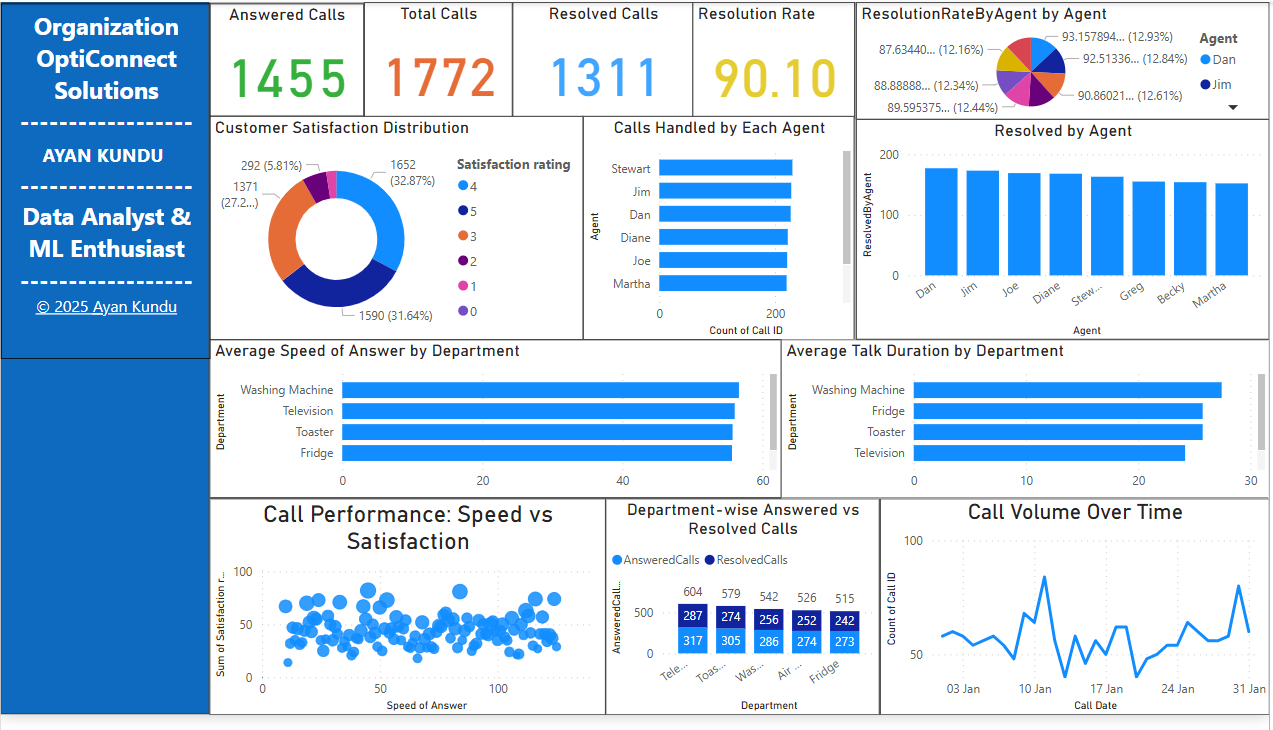

The dashboard page shown, as its layout file describes it:
{"tool":"powerbi","page":{"name":"Page 1","canvas":[1280,720],"ordinal":0},"visuals":[{"type":"shape","box":[0,0,210,718.6],"z":0},{"type":"card","title":"Total Calls","fields":{"Values":["Sheet1.Call ID"]},"box":[365.7,0,150,115.7],"z":1000},{"type":"card","title":"Answered Calls","fields":{"Values":["Sheet1.AnsweredCalls"]},"box":[210,1.4,155.7,114.3],"z":2000},{"type":"card","title":"Resolved Calls","fields":{"Values":["Sheet1.ResolvedCalls"]},"box":[515.7,0,182.9,115.7],"z":3000},{"type":"card","title":"Resolution Rate","fields":{"Values":["Sheet1.ResolutionRate"]},"box":[698.6,0,164.3,117.1],"z":4000},{"type":"lineChart","title":"Call Volume Over Time","fields":{"Y":["Sheet1.Call ID"],"Category":["Sheet1.Call Date"]},"box":[886.7,501.7,393.3,218.3],"z":5000},{"type":"scatterChart","title":"Call Performance: Speed vs Satisfaction","fields":{"X":["Sheet1.Speed of Answer"],"Y":["Sheet1.Satisfaction rating"],"Size":["Sheet1.AvgTalkDurationSeconds"]},"box":[210,501.4,400,218.6],"z":6000},{"type":"columnChart","title":"Department-wise Answered vs Resolved Calls","fields":{"Category":["Sheet1.Department"],"Y":["Sheet1.AnsweredCalls","Sheet1.ResolvedCalls"]},"box":[610,501.7,276.7,218.3],"z":7000},{"type":"clusteredBarChart","title":"Calls Handled by Each Agent","fields":{"Category":["Sheet1.Agent"],"Y":["Sheet1.Call ID"]},"box":[587.1,115.7,274.3,225.7],"z":8000},{"type":"donutChart","title":"Customer Satisfaction Distribution","fields":{"Category":["Sheet1.Satisfaction rating"],"Y":["Sheet1.Satisfaction rating"]},"box":[210,115.7,377.1,225.7],"z":9000},{"type":"barChart","title":"Average Talk Duration by Department","fields":{"Category":["Sheet1.Department"],"Y":["Sheet1.AvgTalkDurationSeconds"]},"box":[787.1,341.4,492.9,160],"z":10000},{"type":"clusteredColumnChart","title":"Resolved by Agent","fields":{"Category":["Sheet1.Agent"],"Y":["Sheet1.ResolvedByAgent"]},"box":[862.9,118.6,417.1,222.9],"z":11000},{"type":"clusteredBarChart","title":"Average Speed of Answer by Department","fields":{"Category":["Sheet1.Department"],"Y":["Sheet1.AvgSpeedOfAnswer"]},"box":[210,341.4,577.1,160],"z":12000},{"type":"pieChart","fields":{"Category":["Sheet1.Agent"],"Y":["Sheet1.ResolutionRateByAgent"]},"box":[862.9,0,417.1,118.6],"z":13000},{"type":"textbox","box":[0,1.4,211.4,358.6],"z":20000}]}

Visuals, with their boxes in screenshot pixels (x1, y1, x2, y2), scaled from the page's 1280x720 canvas onto the 1273x730 screenshot:
shape: {"left": 0, "top": 0, "right": 209, "bottom": 729}
"Total Calls" card: {"left": 364, "top": 0, "right": 513, "bottom": 117}
"Answered Calls" card: {"left": 209, "top": 1, "right": 364, "bottom": 117}
"Resolved Calls" card: {"left": 513, "top": 0, "right": 695, "bottom": 117}
"Resolution Rate" card: {"left": 695, "top": 0, "right": 858, "bottom": 119}
"Call Volume Over Time" lineChart: {"left": 882, "top": 509, "right": 1272, "bottom": 729}
"Call Performance: Speed vs Satisfaction" scatterChart: {"left": 209, "top": 508, "right": 607, "bottom": 729}
"Department-wise Answered vs Resolved Calls" columnChart: {"left": 607, "top": 509, "right": 882, "bottom": 729}
"Calls Handled by Each Agent" clusteredBarChart: {"left": 584, "top": 117, "right": 857, "bottom": 346}
"Customer Satisfaction Distribution" donutChart: {"left": 209, "top": 117, "right": 584, "bottom": 346}
"Average Talk Duration by Department" barChart: {"left": 783, "top": 346, "right": 1272, "bottom": 508}
"Resolved by Agent" clusteredColumnChart: {"left": 858, "top": 120, "right": 1272, "bottom": 346}
"Average Speed of Answer by Department" clusteredBarChart: {"left": 209, "top": 346, "right": 783, "bottom": 508}
pieChart - Sheet1.Agent x Sheet1.ResolutionRateByAgent: {"left": 858, "top": 0, "right": 1272, "bottom": 120}
textbox: {"left": 0, "top": 1, "right": 210, "bottom": 365}
